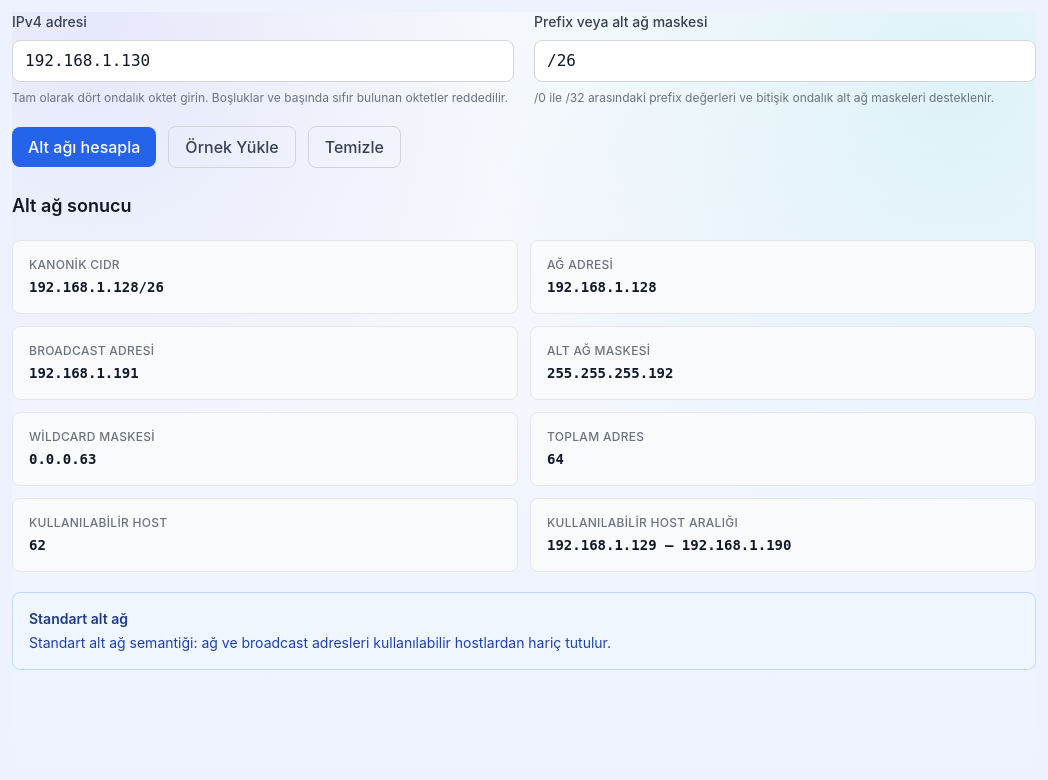
Test case: CidrCalculatorTool localization › uses the selected locale for controls, results, and validation feedback
This screenshot has width=1048, height=780.
Expected: the heading "Alt ağ sonucu" is shown, [12, 192, 132, 220]
Type "999.1.1.1" into the field labelled "IPv4 adresi" at (263, 61), box [12, 40, 514, 82]
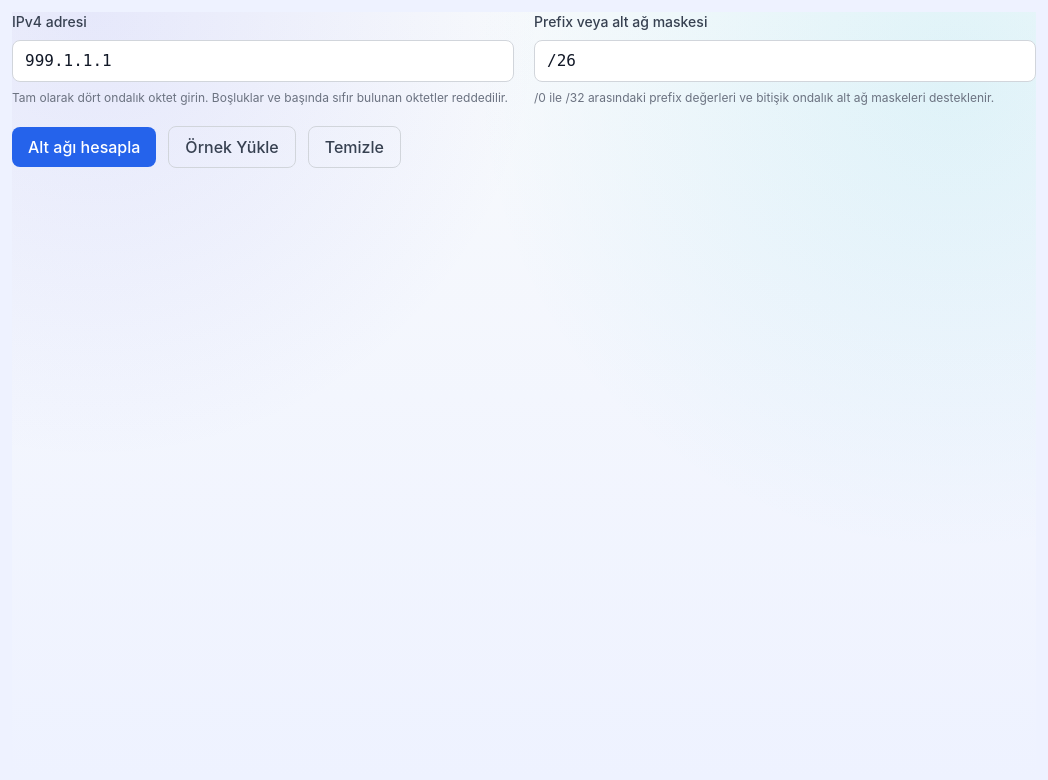
Click the button "Alt ağı hesapla" at (84, 147), box [12, 127, 156, 167]
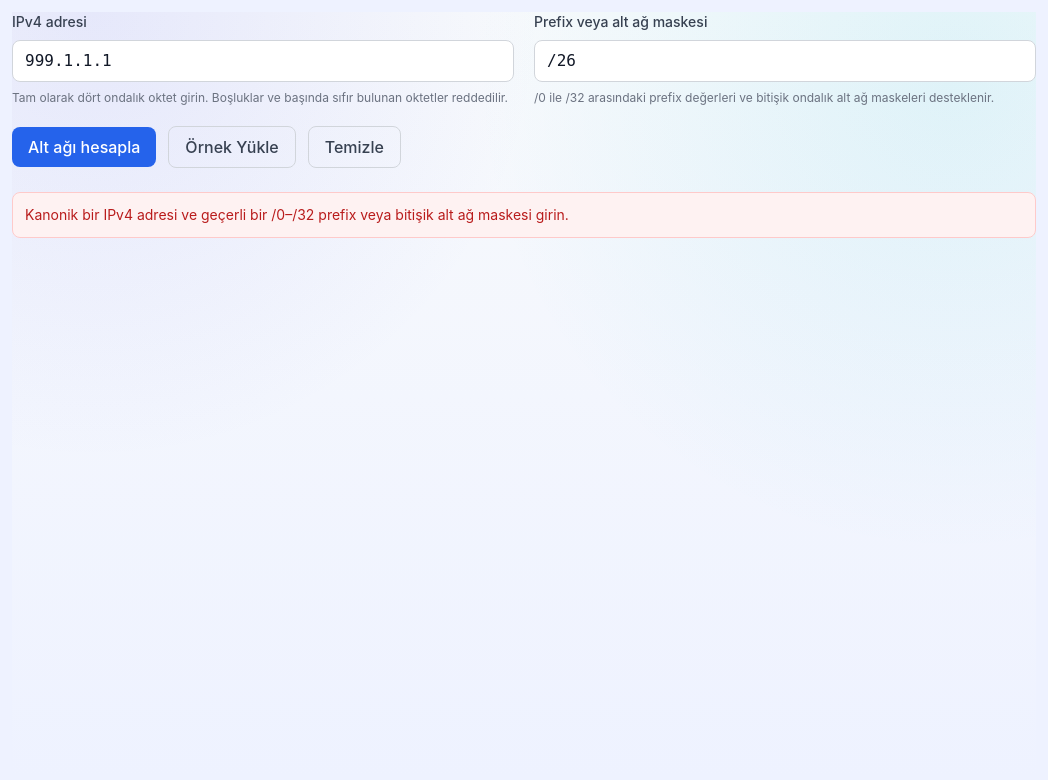
Expected: the message shows "Kanonik bir IPv4 adresi ve geçerli bir /0–/32 prefix veya bitişik alt ağ maskesi girin.", [25, 206, 569, 223]
